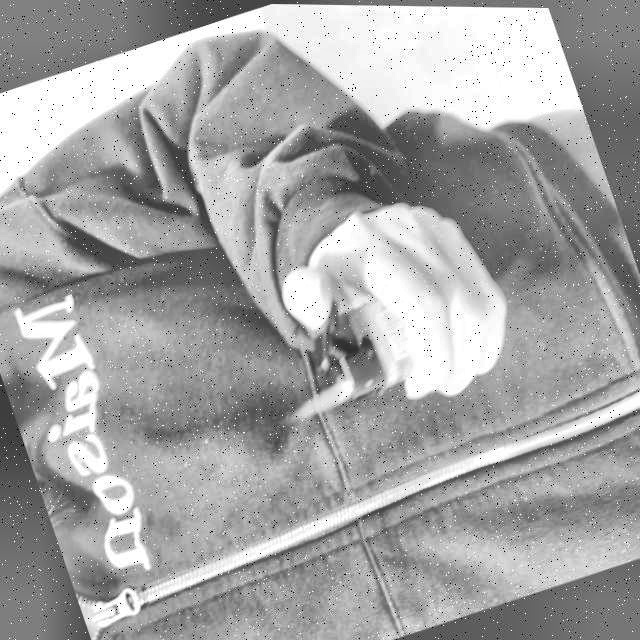Fire: (276, 377, 353, 423)
